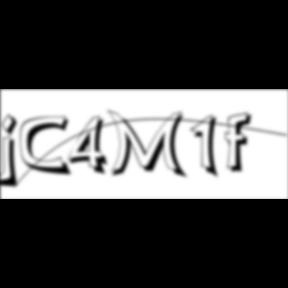1: (190, 114, 224, 182)
4: (68, 115, 114, 179)
C: (20, 115, 76, 178)
M: (107, 108, 191, 181)
f: (225, 111, 258, 175)
j: (1, 113, 25, 191)
